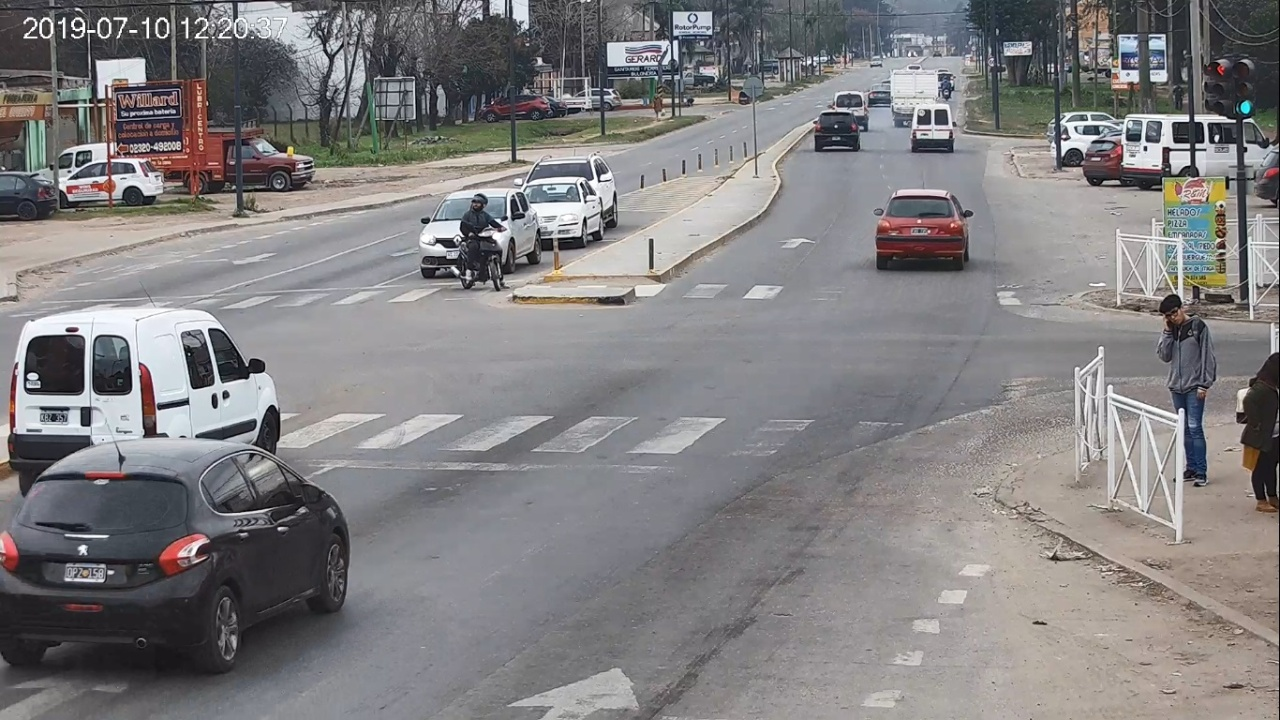car: (2, 439, 351, 673), (9, 307, 281, 498), (874, 189, 973, 269)
traffic light: (1233, 57, 1255, 119)
